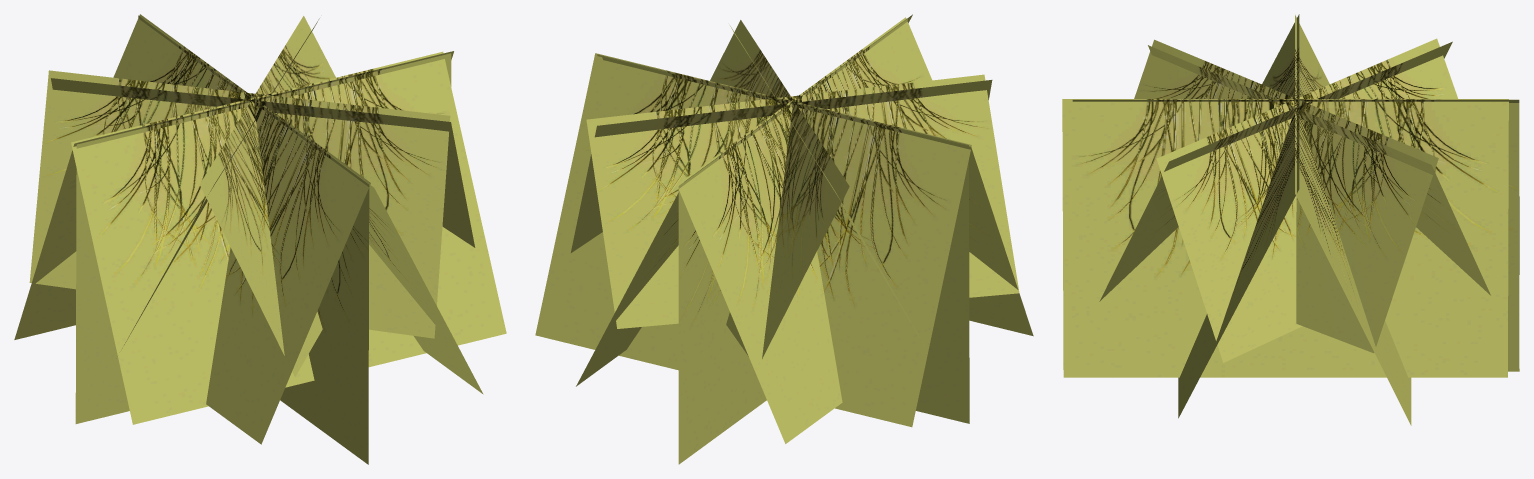
The model's file is grass.glb.
3 views of the same model, side by side, from view 1: azimuth 30°, elevation 25°; view 2: azimuth 150°, elevation 25°; view 3: azimuth 270°, elevation 25° (orthographic). The views are drawn at different scales.
Visible parts, largest first — view 1: body; view 2: body; view 3: body.
Boxes of the visible parts, x1,y1,x2,y2 form: body: (14,14,506,464); body: (535,14,1033,464); body: (1062,14,1519,425).
Size of the model in its own units: 1.29 by 0.9039 by 1.37.
1 material, 1 textured.
